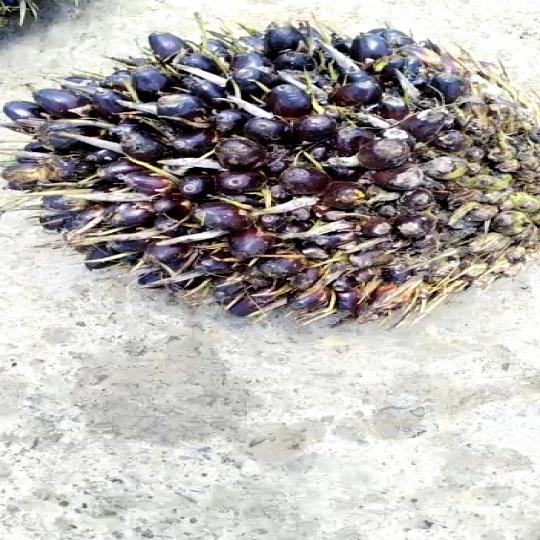mentah: (1, 2, 540, 322)
